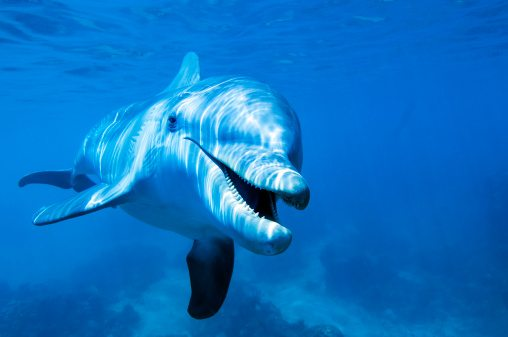dolphin: (36, 73, 316, 290)
